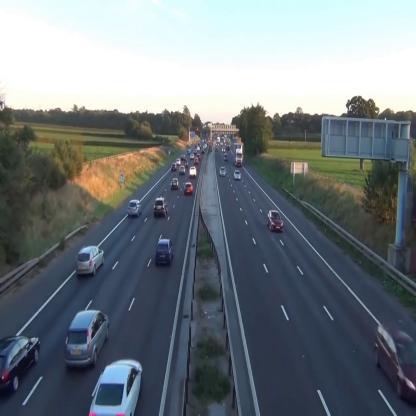car: (374, 320, 416, 402), (90, 356, 144, 416), (66, 310, 110, 370), (0, 336, 41, 392), (76, 244, 105, 278), (155, 239, 174, 265), (266, 209, 284, 232), (153, 198, 168, 217), (127, 200, 142, 217), (183, 183, 193, 195), (171, 178, 179, 189), (190, 166, 197, 178), (220, 165, 226, 177), (234, 170, 240, 180), (180, 165, 186, 174), (171, 163, 177, 171), (176, 158, 181, 165), (194, 157, 198, 164)
lorry: (233, 143, 244, 167)
